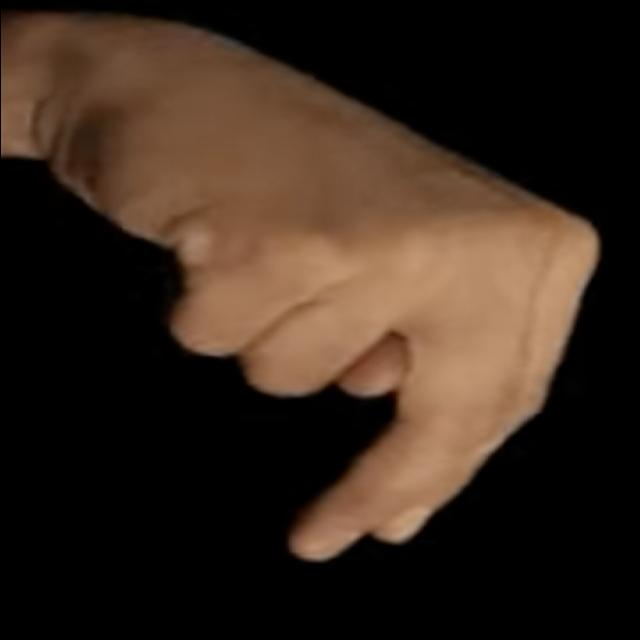N: (42, 21, 612, 571)
